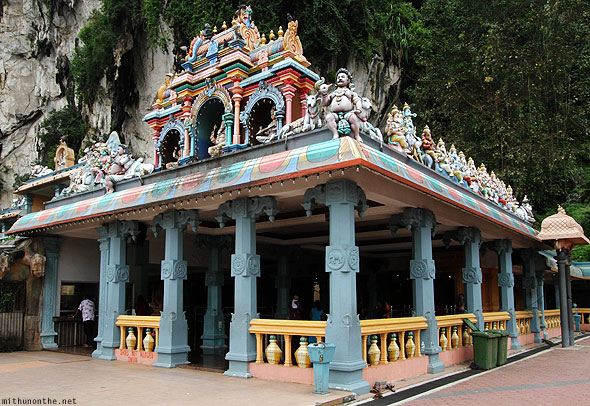Hindu Temple: (16, 6, 581, 351)
